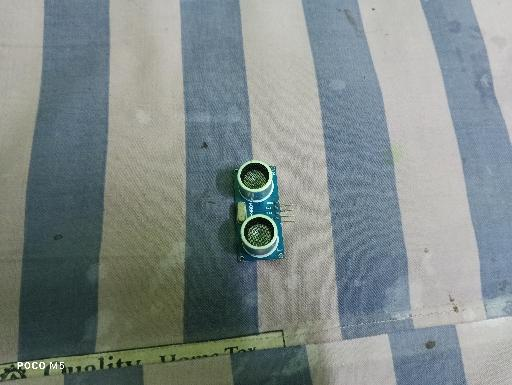sensor: (232, 160, 295, 264)
